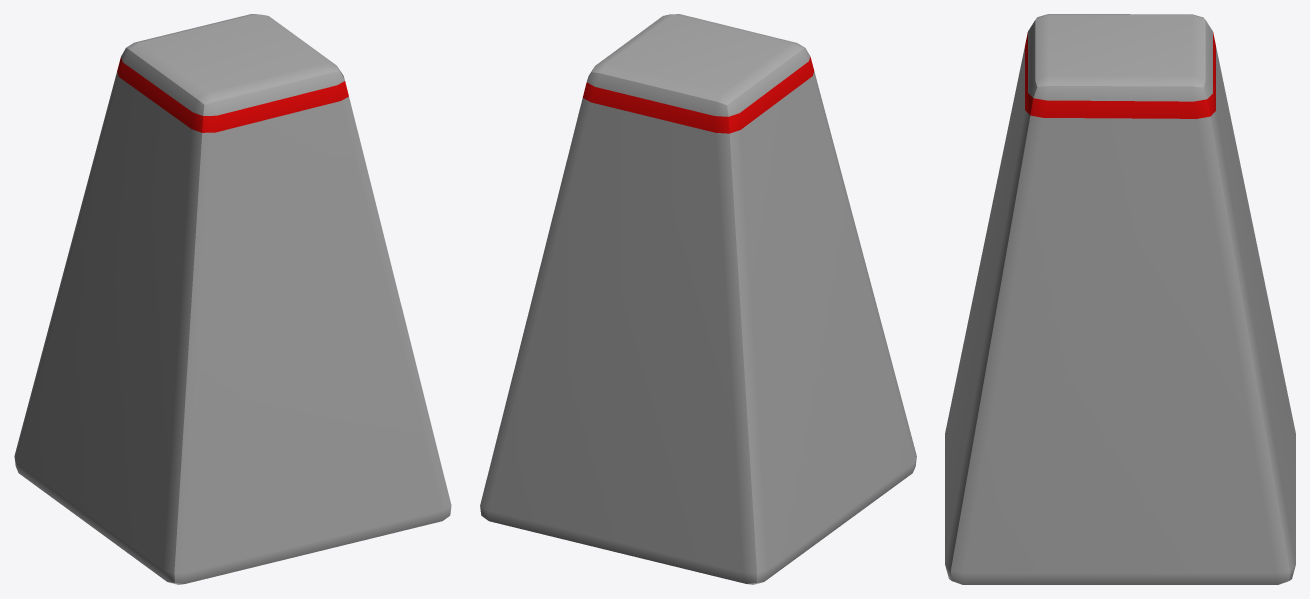
File: Ppillier 2.1.fbx
3 renders of one model, left to right at view 1: azimuth 30°, elevation 25°; view 2: azimuth 150°, elevation 25°; view 3: azimuth 270°, elevation 25°, orthographic. The views are drawn at different scales.
Visible parts, largest first — view 1: Ppillier_1_1; view 2: Ppillier_1_1; view 3: Ppillier_1_1.
Boxes of the visible parts, x1,y1,x2,y2 form: Ppillier_1_1: [14, 14, 451, 584]; Ppillier_1_1: [480, 14, 916, 584]; Ppillier_1_1: [945, 14, 1295, 584].
Size of the model in its own units: 196 by 292 by 196.
